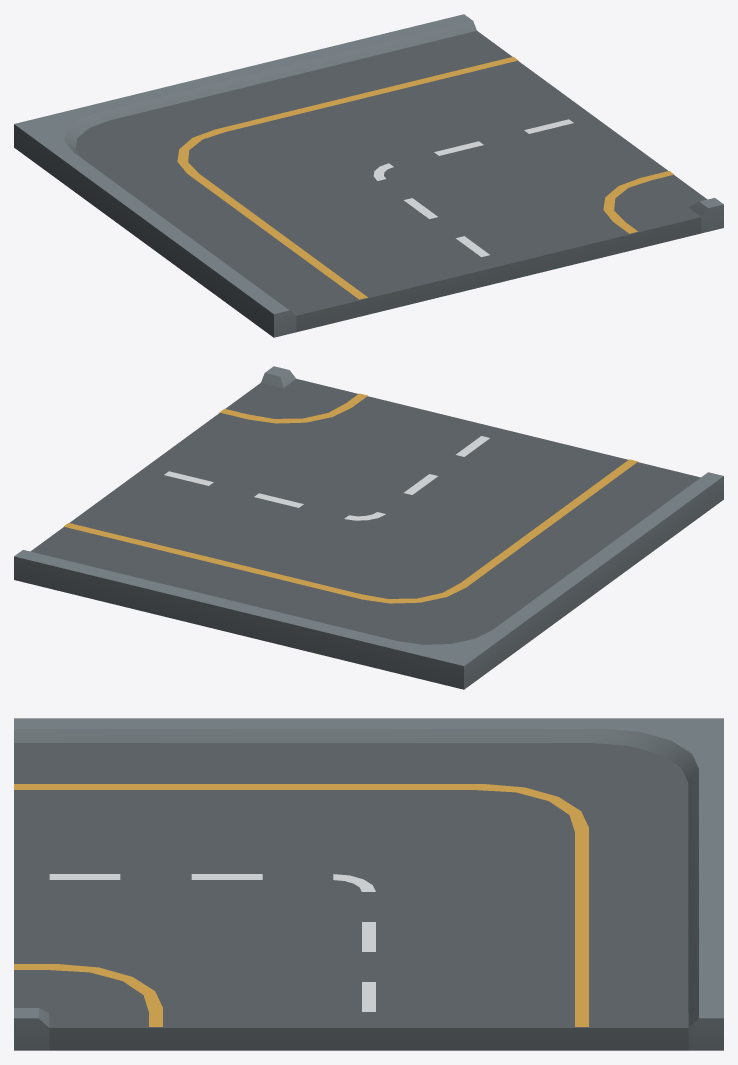
File: Road Corner.glb
3 views of the same model, one above another, from view 1: azimuth 30°, elevation 25°; view 2: azimuth 150°, elevation 25°; view 3: azimuth 270°, elevation 25° (orthographic). The views are drawn at different scales.
Parts seen in each view (by area): view 1: road_corner; view 2: road_corner; view 3: road_corner.
Boxes of the visible parts, <box> form: road_corner: <box>14,14,723,337</box>; road_corner: <box>14,366,723,689</box>; road_corner: <box>14,718,723,1050</box>.
Size of the model in its own units: 2 by 0.1 by 2.
1 material, 1 textured.
